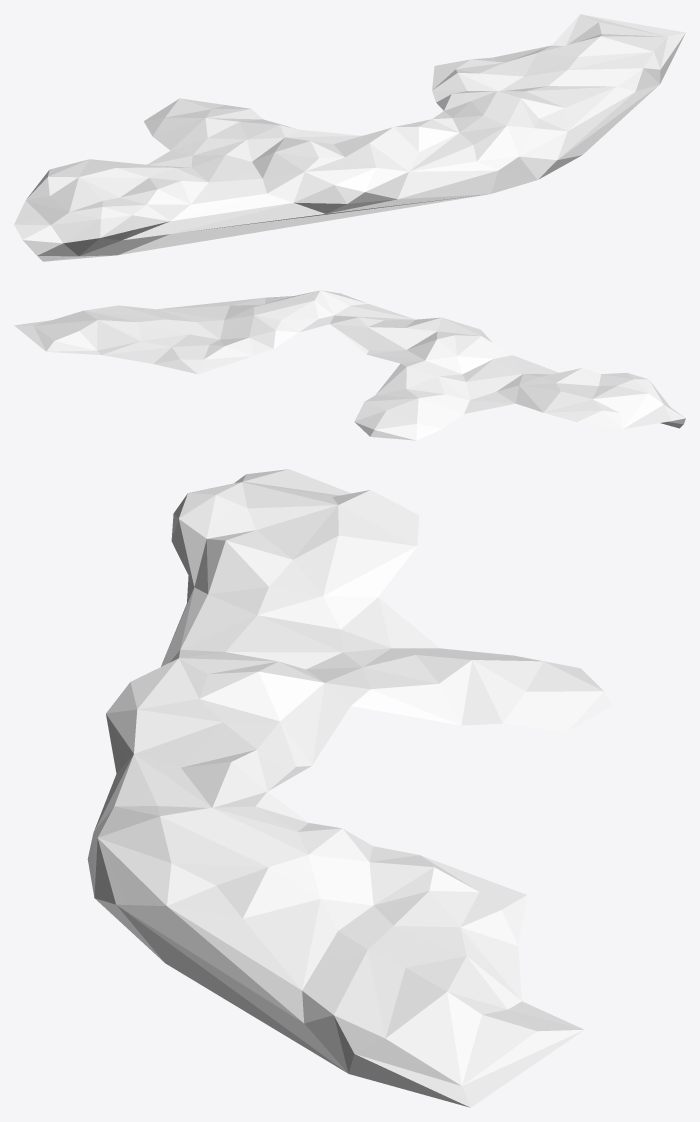
File: Plant03.fbx
3 renders of one model, top to bottom at view 1: azimuth 30°, elevation 25°; view 2: azimuth 150°, elevation 25°; view 3: azimuth 270°, elevation 25°, orthographic. The views are drawn at different scales.
Visible parts, largest first — view 1: Plant03; view 2: Plant03; view 3: Plant03.
Boxes of the visible parts, x1,y1,x2,y2 form: Plant03: [14, 14, 685, 261]; Plant03: [14, 290, 685, 440]; Plant03: [87, 469, 611, 1107].
Size of the model in its own units: 114 by 8.19 by 42.11.
